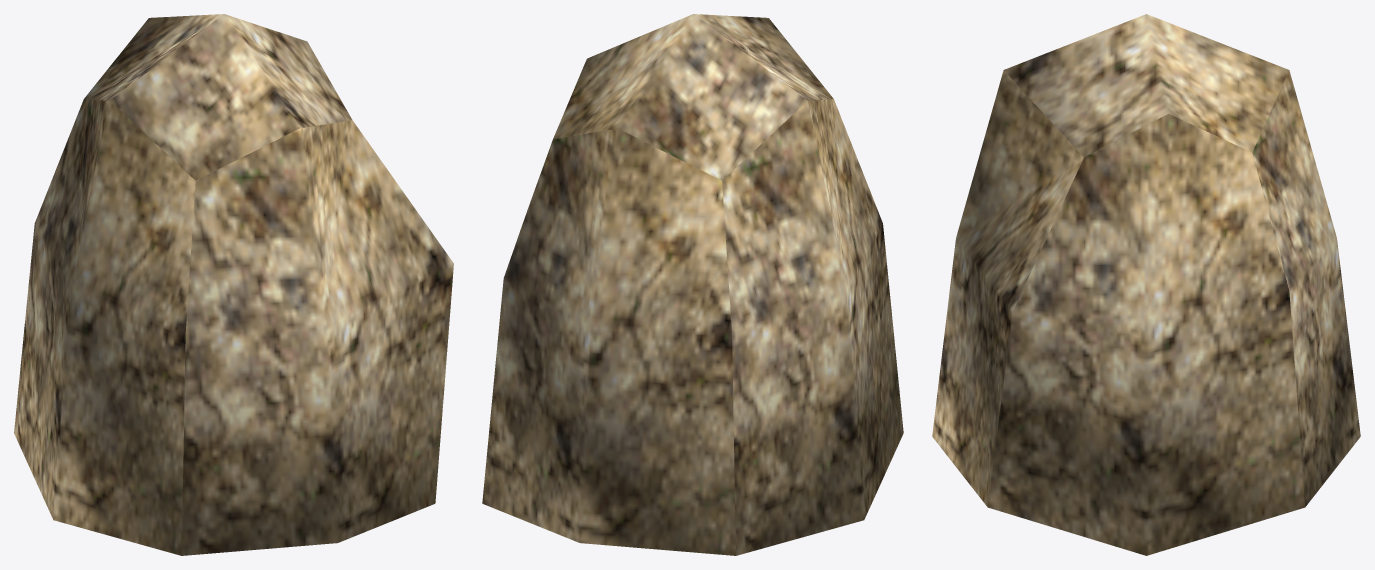
3 renders of one model, left to right at view 1: azimuth 30°, elevation 25°; view 2: azimuth 150°, elevation 25°; view 3: azimuth 270°, elevation 25°, orthographic. The views are drawn at different scales.
Visible parts, largest first — view 1: SMDImport; view 2: SMDImport; view 3: SMDImport.
Part boxes in pixels (x1=…): SMDImport: x1=14, y1=14, x2=453, y2=555; SMDImport: x1=482, y1=14, x2=903, y2=555; SMDImport: x1=932, y1=14, x2=1360, y2=555.
Size of the model in its own units: 151 by 186 by 158.
